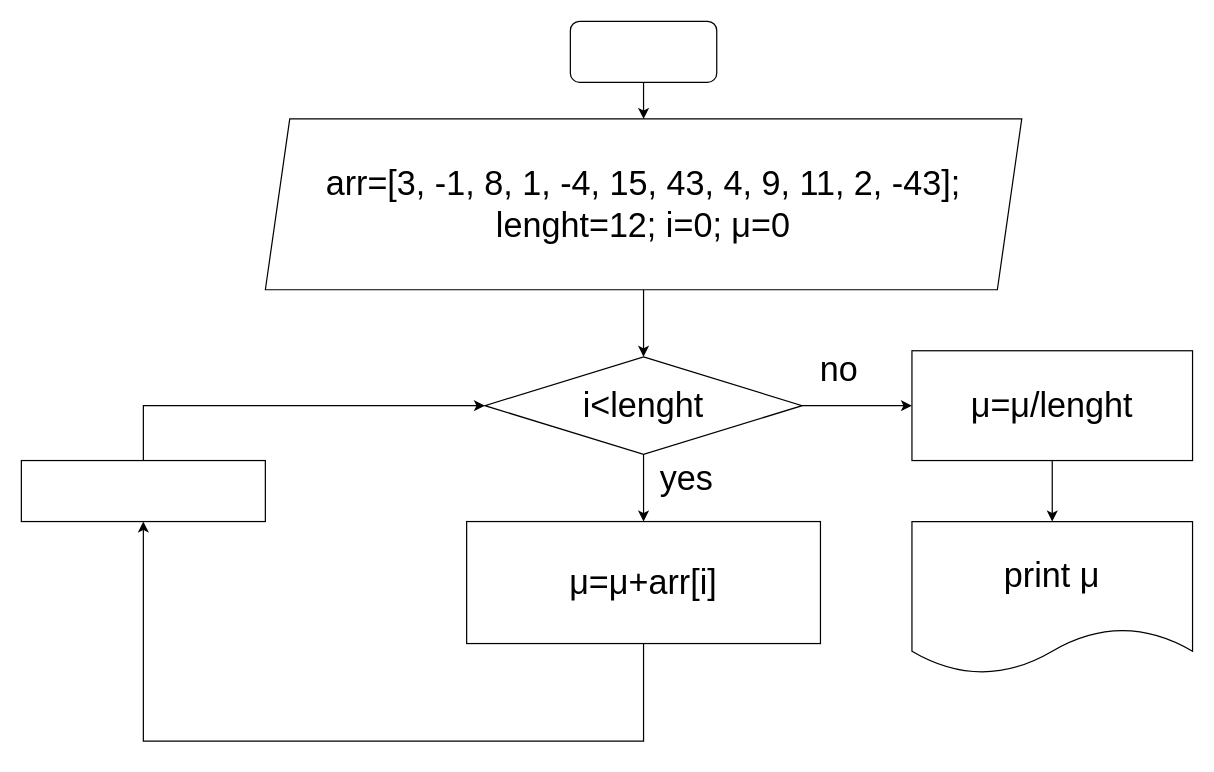
Image size: 1214x772. Some labels were removed from this diagram. The shapes that lost their labels are listed below. From the top down, each one's centre as x and y in pixels, then its label:
(643,51): Start
(142,490): i=i+1
